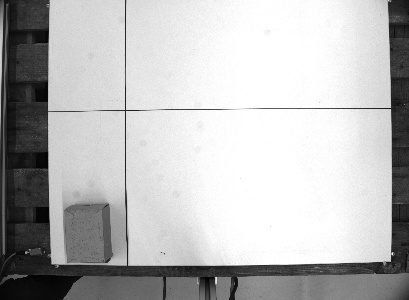b6: (61, 200, 115, 265)
